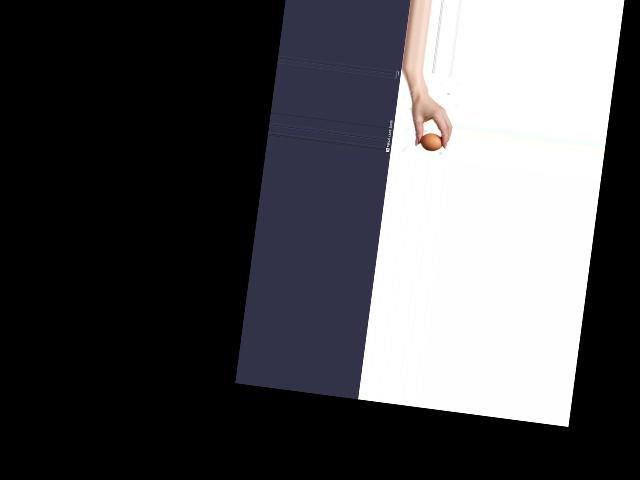egg: (419, 130, 443, 152)
